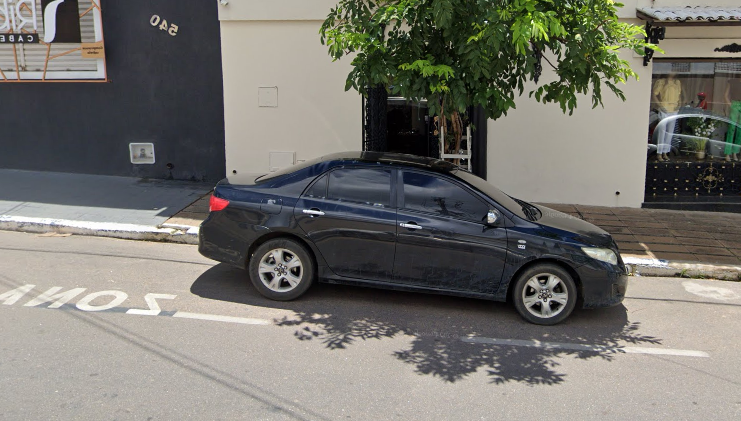car: (196, 141, 633, 353)
